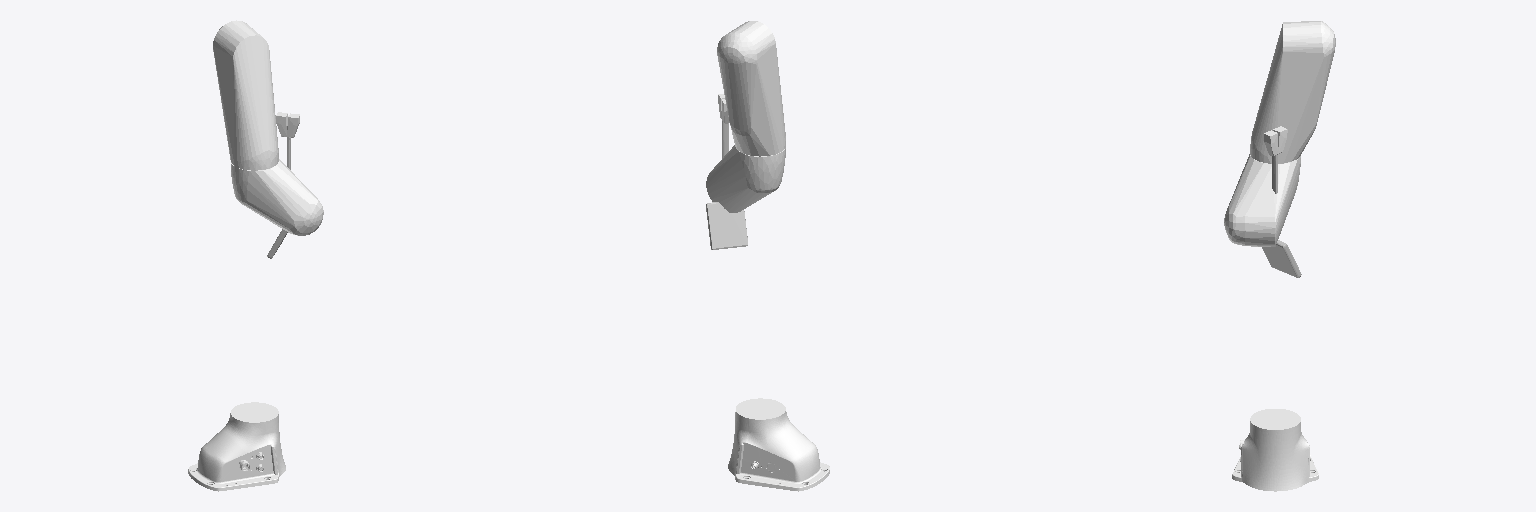
robot.urdf — panda:
<?xml version="1.0" ?>
<!-- =================================================================================== -->
<!-- |    This document was autogenerated by xacro from panda_arm_hand.urdf.xacro      | -->
<!-- |    EDITING THIS FILE BY HAND IS NOT RECOMMENDED                                 | -->
<!-- =================================================================================== -->
<robot name="panda" xmlns:xacro="http://www.ros.org/wiki/xacro">
<link name="world"/>
<joint name="base_joint" type="fixed">
    <origin rpy="0 0 0" xyz="0 0 0"/>
    <parent link="world"/>
    <child link="panda_link0"/>
  </joint>
  <link name="panda_link0">
  	<inertial>
      <origin rpy="0 0 0" xyz="0 0 0.05"/>
       <mass value="2.9"/>
       <inertia ixx="0.1" ixy="0" ixz="0" iyy="0.1" iyz="0" izz="0.1"/>
    </inertial>
    <visual>
      <geometry>
        <mesh filename="meshes/collision/link0.obj"/>
      </geometry>
      <material name="panda_white">
    		<color rgba="1. 1. 1. 1."/>
  		</material>
    </visual>
    <collision>
      <geometry>
        <mesh filename="meshes/collision/link0.obj"/>
      </geometry>
      <material name="panda_white"/>
    </collision>
  </link>
  <link name="panda_link1">
  	<inertial>
      <origin rpy="0 0 0" xyz="0 -0.04 -0.05"/>
       <mass value="2.7"/>
       <inertia ixx="0.1" ixy="0" ixz="0" iyy="0.1" iyz="0" izz="0.1"/>
    </inertial>
    <visual>
      <geometry>
        <mesh filename="meshes/visual/link1.obj"/>
      </geometry>
      <material name="panda_white"/>
    </visual>
    <collision>
      <geometry>
        <mesh filename="meshes/collision/link1.obj"/>
      </geometry>
      <material name="panda_white"/>
    </collision>
  </link>
  <joint name="panda_joint1" type="revolute">
    <safety_controller k_position="100.0" k_velocity="40.0" soft_lower_limit="-2.8973" soft_upper_limit="2.8973"/>
    <origin rpy="0 0 0" xyz="0 0 0.333"/>
    <parent link="panda_link0"/>
    <child link="panda_link1"/>
    <axis xyz="0 0 1"/>
    <limit effort="87" lower="-2.9671" upper="2.9671" velocity="2.1750"/>
  </joint>
  <link name="panda_link2">
  	<inertial>
      <origin rpy="0 0 0" xyz="0 -0.04 0.06"/>
       <mass value="2.73"/>
       <inertia ixx="0.1" ixy="0" ixz="0" iyy="0.1" iyz="0" izz="0.1"/>
    </inertial>
    <visual>
      <geometry>
        <mesh filename="meshes/visual/link2.obj"/>
      </geometry>
      <material name="panda_white"/>
    </visual>
    <collision>
      <geometry>
        <mesh filename="meshes/collision/link2.obj"/>
      </geometry>
      <material name="panda_white"/>
    </collision>
  </link>
  <joint name="panda_joint2" type="revolute">
    <safety_controller k_position="100.0" k_velocity="40.0" soft_lower_limit="-1.7628" soft_upper_limit="1.7628"/>
    <origin rpy="-1.57079632679 0 0" xyz="0 0 0"/>
    <parent link="panda_link1"/>
    <child link="panda_link2"/>
    <axis xyz="0 0 1"/>
    <limit effort="87" lower="-1.8326" upper="1.8326" velocity="2.1750"/>
  </joint>
  <link name="panda_link3">
	  <inertial>
      <origin rpy="0 0 0" xyz="0.01 0.01 -0.05"/>
       <mass value="2.04"/>
       <inertia ixx="0.1" ixy="0" ixz="0" iyy="0.1" iyz="0" izz="0.1"/>
    </inertial>
    <visual>
      <geometry>
        <mesh filename="meshes/visual/link3.obj"/>
      </geometry>
      <material name="panda_red">
    		<color rgba="1. 1. 1. 1."/>
  		</material>
    </visual>
    <collision>
      <geometry>
        <mesh filename="meshes/collision/link3.obj"/>
      </geometry>
    </collision>
  </link>
  <joint name="panda_joint3" type="revolute">
    <safety_controller k_position="100.0" k_velocity="40.0" soft_lower_limit="-2.8973" soft_upper_limit="2.8973"/>
    <origin rpy="1.57079632679 0 0" xyz="0 -0.316 0"/>
    <parent link="panda_link2"/>
    <child link="panda_link3"/>
    <axis xyz="0 0 1"/>
    <limit effort="87" lower="-2.9671" upper="2.9671" velocity="2.1750"/>
  </joint>
  <link name="panda_link4">
  	<inertial>
      <origin rpy="0 0 0" xyz="-0.03 0.03 0.02"/>
       <mass value="2.08"/>
       <inertia ixx="0.1" ixy="0" ixz="0" iyy="0.1" iyz="0" izz="0.1"/>
    </inertial>
    <visual>
      <geometry>
        <mesh filename="meshes/visual/link4.obj"/>
      </geometry>
      <material name="panda_white"/>
    </visual>
    <collision>
      <geometry>
        <mesh filename="meshes/collision/link4.obj"/>
      </geometry>
      <material name="panda_white"/>
    </collision>
  </link>
  <joint name="panda_joint4" type="revolute">
    <safety_controller k_position="100.0" k_velocity="40.0" soft_lower_limit="-3.0718" soft_upper_limit="-0.0698"/>
    <origin rpy="1.57079632679 0 0" xyz="0.0825 0 0"/>
    <parent link="panda_link3"/>
    <child link="panda_link4"/>
    <axis xyz="0 0 1"/>
    <limit effort="87" lower="-3.1416" upper="0.0" velocity="2.1750"/>
  </joint>
  <link name="panda_link5">
  	<inertial>
      <origin rpy="0 0 0" xyz="0 0.04 -0.12"/>
       <mass value="3"/>
       <inertia ixx="0.1" ixy="0" ixz="0" iyy="0.1" iyz="0" izz="0.1"/>
    </inertial>
    <visual>
      <geometry>
        <mesh filename="meshes/visual/link5.obj"/>
      </geometry>
      <material name="panda_white"/>
    </visual>
    <collision>
      <geometry>
        <mesh filename="meshes/collision/link5.obj"/>
      </geometry>
      <material name="panda_white"/>
    </collision>
  </link>
  <joint name="panda_joint5" type="revolute">
    <safety_controller k_position="100.0" k_velocity="40.0" soft_lower_limit="-2.8973" soft_upper_limit="2.8973"/>
    <origin rpy="-1.57079632679 0 0" xyz="-0.0825 0.384 0"/>
    <parent link="panda_link4"/>
    <child link="panda_link5"/>
    <axis xyz="0 0 1"/>
    <limit effort="12" lower="-2.9671" upper="2.9671" velocity="2.6100"/>
  </joint>
  <link name="panda_link6">
  	<inertial>
      <origin rpy="0 0 0" xyz="0.04 0 0"/>
       <mass value="1.3"/>
       <inertia ixx="0.1" ixy="0" ixz="0" iyy="0.1" iyz="0" izz="0.1"/>
    </inertial>
    <visual>
      <geometry>
        <mesh filename="meshes/visual/link6.obj"/>
      </geometry>
      <material name="panda_white"/>
    </visual>
    <collision>
      <geometry>
        <mesh filename="meshes/collision/link6.obj"/>
      </geometry>
      <material name="panda_white"/>
    </collision>
  </link>
  <joint name="panda_joint6" type="revolute">
    <safety_controller k_position="100.0" k_velocity="40.0" soft_lower_limit="-0.0175" soft_upper_limit="3.7525"/>
    <origin rpy="1.57079632679 0 0" xyz="0 0 0"/>
    <parent link="panda_link5"/>
    <child link="panda_link6"/>
    <axis xyz="0 0 1"/>
    <limit effort="12" lower="-0.0873" upper="3.8223" velocity="2.6100"/>
  </joint>
  <link name="panda_link7">
  	<inertial>
      <origin rpy="0 0 0" xyz="0 0 0.08"/>
       <mass value=".2"/>
       <inertia ixx="0.1" ixy="0" ixz="0" iyy="0.1" iyz="0" izz="0.1"/>
    </inertial>
    <visual>
      <geometry>
        <mesh filename="meshes/collision/link7.obj"/>
      </geometry>
      <material name="panda_white"/>
    </visual>
    <collision>
      <geometry>
        <mesh filename="meshes/collision/link7.obj"/>
      </geometry>
      <material name="panda_white"/>
    </collision>
  </link>
  <joint name="panda_joint7" type="revolute">
    <safety_controller k_position="100.0" k_velocity="40.0" soft_lower_limit="-2.8973" soft_upper_limit="2.8973"/>
    <origin rpy="1.57079632679 0 0" xyz="0.088 0 0"/>
    <parent link="panda_link6"/>
    <child link="panda_link7"/>
    <axis xyz="0 0 1"/>
    <limit effort="12" lower="-2.9671" upper="2.9671" velocity="2.6100"/>
  </joint>
  <link name="panda_link8">
  </link>
  <joint name="panda_joint8" type="fixed">
    <origin rpy="0 0 0" xyz="0 0 0.107"/>
    <parent link="panda_link7"/>
    <child link="panda_link8"/>
    <axis xyz="0 0 0"/>
  </joint>
  <joint name="panda_hand_joint" type="fixed">
    <parent link="panda_link8"/>
    <child link="panda_hand"/>
    <origin rpy="0 0 -0.785398163397" xyz="0 0 0"/>
  </joint>
  <link name="panda_hand">
  	<inertial>
      <origin rpy="0 0 0" xyz="0 0 0.04"/>
       <mass value=".81"/>
       <inertia ixx="0.1" ixy="0" ixz="0" iyy="0.1" iyz="0" izz="0.1"/>
    </inertial>
    <visual>
      <geometry>
        <mesh filename="meshes/visual/hand.obj"/>
      </geometry>
      <material name="panda_white"/>
    </visual>
    <collision>
      <geometry>
        <mesh filename="meshes/collision/hand.obj"/>
      </geometry>
      <material name="panda_white"/>
    </collision>
  </link>
  <link name="panda_leftfinger">
       <contact>
      <friction_anchor/>
      <stiffness value="30000.0"/>
      <damping value="1000.0"/>
      <spinning_friction value="0.1"/>
      <lateral_friction value="1.0"/>
    </contact>
  	<inertial>
      <origin rpy="0 0 0" xyz="0 0.01 0.02"/>
       <mass value="0.1"/>
       <inertia ixx="0.1" ixy="0" ixz="0" iyy="0.1" iyz="0" izz="0.1"/>
    </inertial>
    <visual>
      <geometry>
        <mesh filename="meshes/visual/finger.obj"/>
      </geometry>
      <material name="panda_white"/>
    </visual>
    <collision>
      <geometry>
        <mesh filename="meshes/collision/finger.obj"/>
      </geometry>
      <material name="panda_white"/>
    </collision>
  </link>
  <link name="panda_rightfinger">
        <contact>
      <friction_anchor/>
      <stiffness value="30000.0"/>
      <damping value="1000.0"/>
      <spinning_friction value="0.1"/>
      <lateral_friction value="1.0"/>
    </contact>

  	<inertial>
      <origin rpy="0 0 0" xyz="0 -0.01 0.02"/>
       <mass value="0.1"/>
       <inertia ixx="0.1" ixy="0" ixz="0" iyy="0.1" iyz="0" izz="0.1"/>
    </inertial>
    <visual>
      <origin rpy="0 0 0" xyz="0 0 0"/>
      <geometry>
        <mesh filename="meshes/visual/finger.obj"/>
      </geometry>
      <material name="panda_white"/>
    </visual>
    <collision>
      <origin rpy="0 0 0" xyz="0 0 0"/>
      <geometry>
        <mesh filename="meshes/collision/finger.obj"/>
      </geometry>
      <material name="panda_white"/>
    </collision>
  </link>
  <joint name="panda_finger_joint1" type="prismatic">
    <parent link="panda_hand"/>
    <child link="panda_leftfinger"/>
    <origin rpy="0 0 0" xyz="0 0 0.0584"/>
    <axis xyz="0 1 0"/>
    <limit effort="20" lower="0.0" upper="0.04" velocity="0.2"/>
  </joint>
  <joint name="panda_finger_joint2" type="prismatic">
    <parent link="panda_hand"/>
    <child link="panda_rightfinger"/>
    <origin rpy="0 0 3.14159265359" xyz="0 0 0.0584"/>
    <axis xyz="0 1 0"/>
    <limit effort="20" lower="0.0" upper="0.04" velocity="0.2"/>
    <mimic joint="panda_finger_joint1"/>
  </joint>

  <link name="panda_grasptarget">
<!--  <inertial>-->
<!--      <origin rpy="0 0 0" xyz="0 0 0"/>-->
<!--       <mass value="0.0"/>-->
<!--       <inertia ixx="0.1" ixy="0" ixz="0" iyy="0.1" iyz="0" izz="0.1"/>-->
<!--    </inertial>-->
   </link>
   <joint name="panda_grasptarget_hand" type="fixed">
    <parent link="panda_hand"/>
    <child link="panda_grasptarget"/>
    <origin rpy="0 0 0" xyz="0 0 0.105"/>
  </joint>

<!--  <link name="spatula_link">-->
<!--    <inertial>-->
<!--      <origin rpy="-2.9515927 0 -3.1415926" xyz="0 -0.03 -0.16"/>-->
<!--      <mass value="0.4"/>-->
<!--      <inertia ixx="1" ixy="0" ixz="0" iyy="1" iyz="0" izz="1"/>-->
<!--    </inertial>-->
<!--    <visual>-->
<!--      <origin rpy="-2.9515927 0 -3.1415926" xyz="0 0.0 0.16"/>-->
<!--      <geometry>-->
<!--        <mesh filename="../spatula/spatula.obj" scale="0.4 0.4 0.4"/>-->
<!--      </geometry>-->
<!--      <material name="grey">-->
<!--        <color rgba="0.85 0.85 0.85 1.0"/>-->
<!--      </material>-->
<!--    </visual>-->
<!--    <collision>-->
<!--      <origin rpy="-2.9515927 0 -3.1415926" xyz="0 0.0 0.16"/>-->
<!--      <geometry>-->
<!--  	<mesh filename="../spatula/spatula.obj" scale="0.4 0.4 0.4"/>-->
<!--      </geometry>-->
<!--    </collision>-->
<!--  </link>-->
  <link name="spatula_link">
   <inertial>
     <origin rpy="0 0 0" xyz="-0.05 0 0.3"/>
     <mass value="0.4"/>
     <inertia ixx="1" ixy="0" ixz="0" iyy="1" iyz="0" izz="1"/>
   </inertial>
   <visual>
     <origin rpy="0 0 0" xyz="-0. -0.01 -0.25"/>
     <!-- <origin rpy="0 0 0" xyz="-0.0 0. 0."/> -->
     <geometry>
       <mesh filename="../spatula/spatula5_coacd.obj" scale="0.001 0.001 0.001"/>
       <!-- <mesh filename="../spatula/spatula5_plate.obj" scale="1 1 1"/> -->
     </geometry>
     <material name="grey">
       <color rgba="0.85 0.85 0.85 1.0"/>
     </material>
   </visual>
   <collision>
     <origin rpy="0 0 0" xyz="-0.0 0. 0."/>
     <geometry>
 	      <mesh filename="../spatula/spatula5_plate.obj" scale="1 1 1"/>
 	      <!-- <mesh filename="../spatula/spatula5_v.obj" scale="0.001 0.001 0.001"/> -->
     </geometry>
   </collision>
  </link>

   <joint name="grasptarget_hand_to_spatula" type="fixed">
    <parent link="panda_grasptarget"/>
    <child link="spatula_link"/>
    <origin rpy="0 0 -3.1415926" xyz="0. -0.01 0.25"/>
  </joint>


  <!-- <link name="ee">
   <inertial>
     <origin rpy="0 0 0" xyz="0 0 0"/>
      <mass value="0.0"/>
      <inertia ixx="0.1" ixy="0" ixz="0" iyy="0.1" iyz="0" izz="0.1"/>
   </inertial>
    <visual>
      <origin xyz="0 0 0" rpy="0 0 0"/>
      <geometry>
       <sphere radius="0.01"/>
        <box size="0.1 0.08 0.005"/>
      </geometry>
        <material name="cyan">
            <color rgba="0 1 1 1"/>
        </material>
    </visual>
    <collision>
      <origin rpy="0 0 0" xyz="-0.0 0 0."/>
      <geometry>
  	    <box size="0.1 0.08 0.005"/>
      </geometry>
    </collision>
  </link>
 <joint name="spatula_joint_ee" type="fixed">
   <parent link="spatula_link"/>
   <child link="ee"/>
&lt;!&ndash;    <origin rpy="0 0 0" xyz="0 -0.01 0.3"/>&ndash;&gt;
   <origin rpy=" 0 -1.77 -1.5707963" xyz="0 -0.01 0.3"/>
 </joint>
    <joint name="spatula_joint_ee" type="fixed">
    <parent link="spatula_link"/>
    <child link="ee"/>
   <origin rpy="0 0 0" xyz="0 -0.01 0.3"/>
    <origin rpy=" 0 -2. -1.5707963" xyz="0. 0.01 0.25"/>
    <origin rpy="0 0 3.1415926" xyz="0. 0. -0"/>
  </joint> -->

<!--  <link name="target">-->
<!--    <visual>-->
<!--    <origin xyz="0 0 0.02" rpy="0 0 0"/>-->
<!--      <geometry>-->
<!--        <sphere radius="0.1"/>-->
<!--      </geometry>-->
<!--        <material name="cyan">-->
<!--            <color rgba="0 1 1 1"/>-->
<!--        </material>-->
<!--    </visual>-->
<!--  </link>-->
<!--  <joint name="target_joint" type="fixed">-->
<!--    <parent link="world"/>-->
<!--    <child link="target"/>-->
<!--    <origin rpy="0 0 0" xyz="0 0.0 0."/>-->
<!--  </joint>-->

</robot>

--- Render facts (derived) ---
Views: 3 orthographic renders of the robot side by side, from view 1: azimuth 30°, elevation 25°; view 2: azimuth 150°, elevation 25°; view 3: azimuth 270°, elevation 25°.
Robot: panda — 15 links, 14 joints (7 revolute, 2 prismatic, 5 fixed); root link world; default pose: every joint at zero.
Visible links, largest first — view 1: panda_link5, panda_link0, panda_link4; view 2: panda_link5, panda_link0, panda_link4, spatula_link; view 3: panda_link5, panda_link0, panda_link4, spatula_link.
Link boxes in pixels (x1=…): panda_link5: x1=213, y1=20, x2=278, y2=170; panda_link0: x1=188, y1=402, x2=285, y2=491; panda_link4: x1=231, y1=159, x2=323, y2=235; panda_link5: x1=717, y1=21, x2=785, y2=156; panda_link0: x1=728, y1=398, x2=829, y2=491; panda_link4: x1=706, y1=145, x2=785, y2=212; spatula_link: x1=706, y1=121, x2=747, y2=249; panda_link5: x1=1250, y1=21, x2=1335, y2=163; panda_link0: x1=1232, y1=409, x2=1318, y2=491; panda_link4: x1=1224, y1=154, x2=1300, y2=246; spatula_link: x1=1262, y1=155, x2=1301, y2=277.
Size in the robot's own frame: 0.2917 by 0.241 by 1.09 metres.
Meshes: 11 distinct files referenced, 6 mesh visuals loaded (5 OBJ); not drawn: 6 (reference not matched to a file when rendering).
